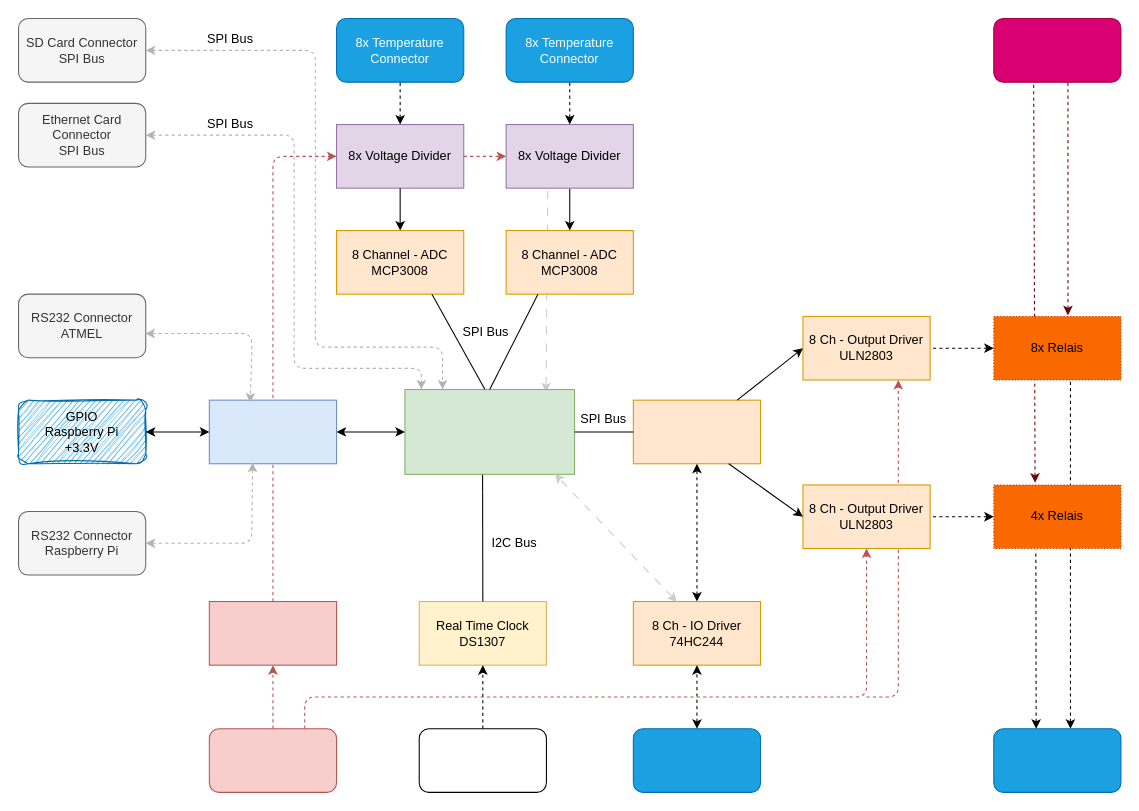
Image size: 1139x811. Some labels were removed from this diagram. Here are the shapes that lost their labels. From the top down, the box of each, then its label:
(993, 17, 1121, 82): Power Connector 230V
(208, 399, 337, 464): RS232 Converter MAX3232CPE
(404, 388, 575, 474): Microcontroller ATMEGA1284P
(632, 399, 761, 464): 16 Channel - IO MCP23S17
(208, 600, 337, 665): DC/DC Converter +5V
(208, 728, 337, 792): Power Connector +12V
(418, 728, 546, 792): Battery
(632, 728, 761, 792): 4x IO Connector
(993, 728, 1121, 792): 12x Output Connector 230V
